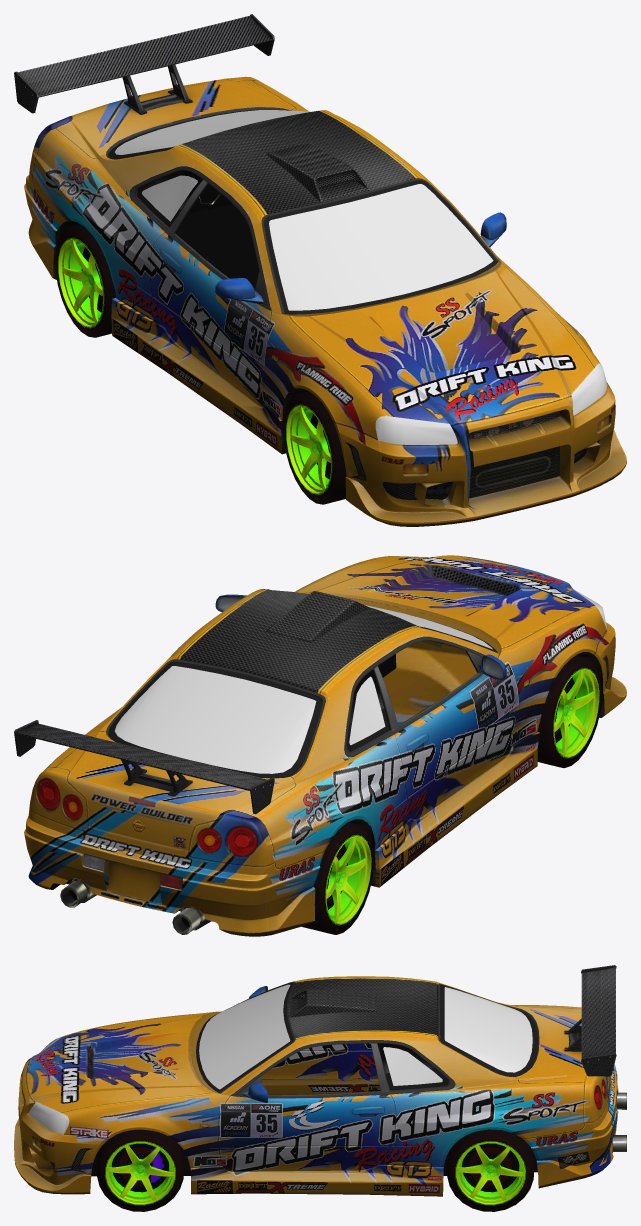
The model's file is Nissan_Skyline.fbx.
The picture shows the model from 3 angles, top to bottom: view 1: azimuth 30°, elevation 25°; view 2: azimuth 150°, elevation 25°; view 3: azimuth 270°, elevation 25°; orthographic projection. The views are drawn at different scales.
Visible parts, largest first — view 1: Skyline_Body, Skyline_Glass, Wheel_Front_Right, Wheel_Rear_Right; view 2: Skyline_Body, Skyline_Glass, Wheel_Front_Right, Wheel_Rear_Right, Skyline_Headlights; view 3: Skyline_Body, Skyline_Glass, Wheel_Rear_Left, Wheel_Front_Left.
Part boxes in pixels (box(x1,y1,x2,y2)): Skyline_Body: box(14, 14, 626, 526); Skyline_Glass: box(115, 110, 607, 444); Wheel_Front_Right: box(283, 391, 346, 504); Wheel_Rear_Right: box(55, 224, 115, 337); Skyline_Body: box(14, 555, 626, 936); Skyline_Glass: box(114, 589, 607, 773); Wheel_Front_Right: box(537, 655, 602, 767); Wheel_Rear_Right: box(302, 822, 374, 934); Skyline_Headlights: box(37, 778, 257, 856); Skyline_Body: box(14, 965, 626, 1196); Skyline_Glass: box(29, 984, 532, 1134); Wheel_Rear_Left: box(447, 1129, 534, 1211); Wheel_Front_Left: box(97, 1129, 183, 1211).
Bounding box in the file's own units: 2.12 × 1.52 × 5.07.
